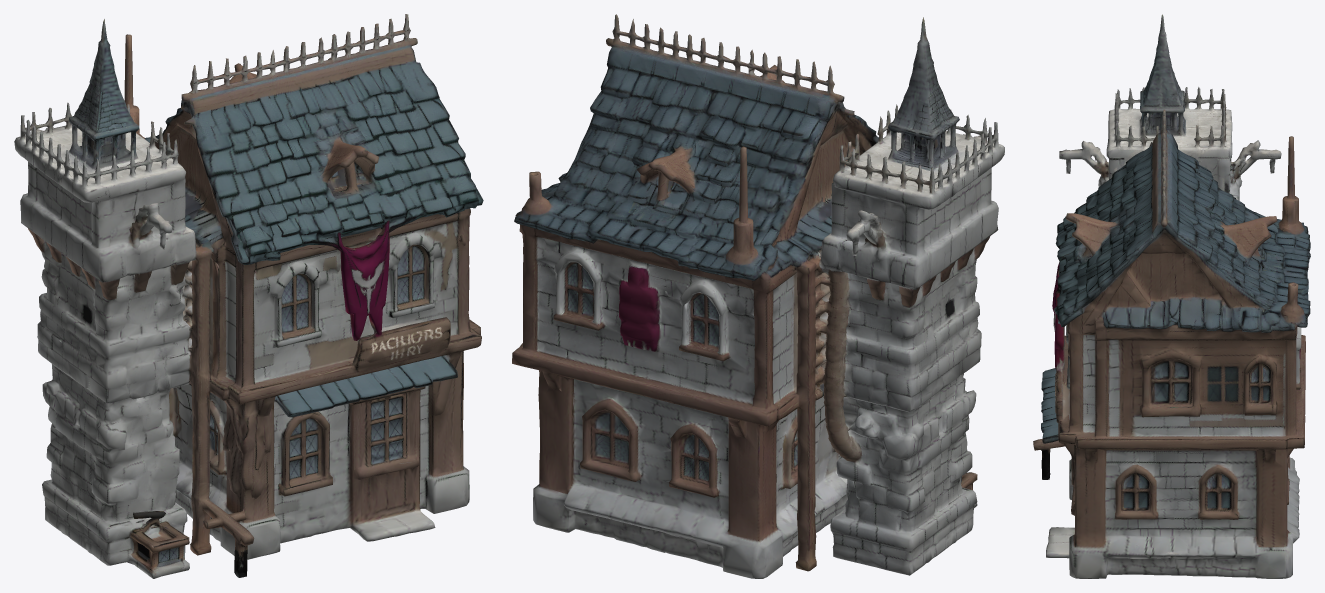
3 renders of one model, left to right at view 1: azimuth 30°, elevation 25°; view 2: azimuth 150°, elevation 25°; view 3: azimuth 270°, elevation 25°, orthographic. The views are drawn at different scales.
Parts seen in each view (by area): view 1: Mesh_0; view 2: Mesh_0; view 3: Mesh_0.
Part boxes in pixels (x1=…): Mesh_0: x1=14, y1=14, x2=483, y2=578; Mesh_0: x1=512, y1=14, x2=1004, y2=578; Mesh_0: x1=1033, y1=14, x2=1310, y2=578.
Size of the model in its own units: 146 by 191 by 110.
1 material, 1 textured.
